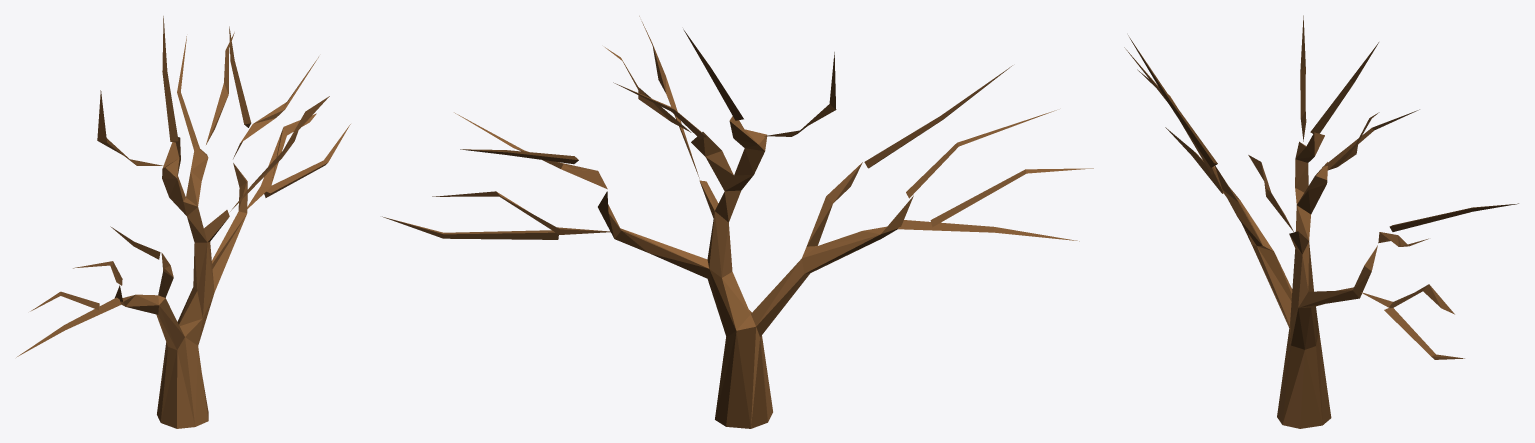
Rendered from jacaranda_3_bare_far.glb.
The picture shows the model from 3 angles, left to right: view 1: azimuth 30°, elevation 25°; view 2: azimuth 150°, elevation 25°; view 3: azimuth 270°, elevation 25°; orthographic projection. The views are drawn at different scales.
Parts seen in each view (by area): view 1: jacaranda_3_bare_far; view 2: jacaranda_3_bare_far; view 3: jacaranda_3_bare_far.
Boxes of the visible parts, <box> form: jacaranda_3_bare_far: <box>16,16,350,428</box>; jacaranda_3_bare_far: <box>382,16,1093,428</box>; jacaranda_3_bare_far: <box>1124,15,1518,428</box>.
Bounding box in the file's own units: 8.26 × 6.08 × 5.68.
